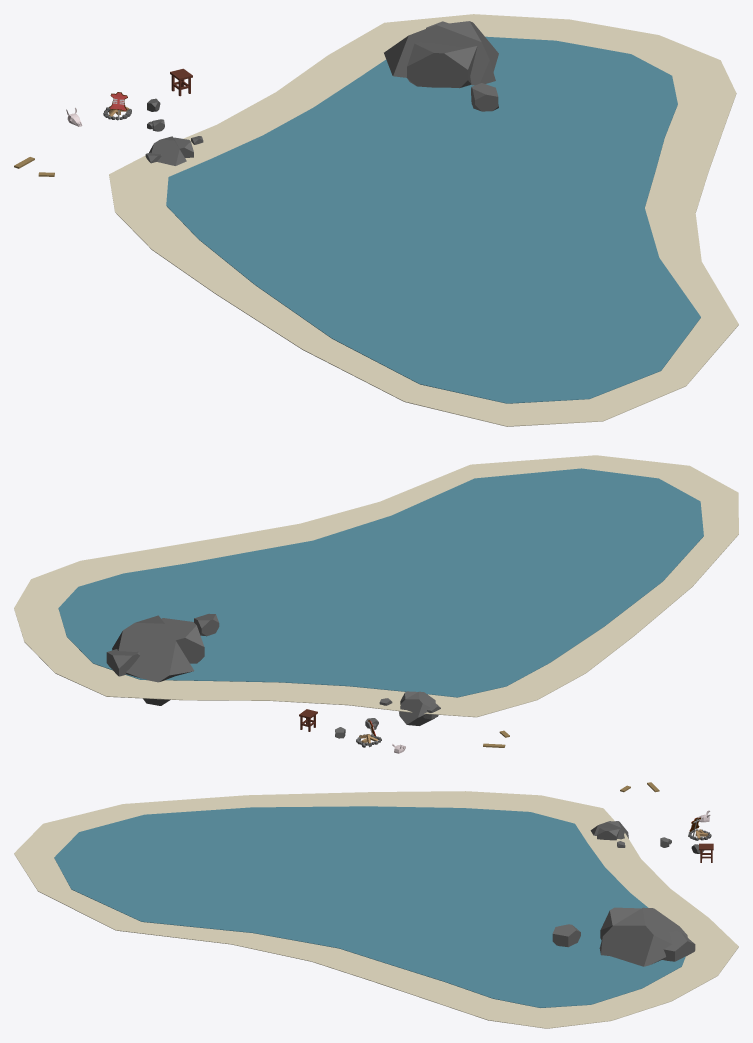
Rendered from shack.glb.
3 renders of one model, top to bottom at view 1: azimuth 30°, elevation 25°; view 2: azimuth 150°, elevation 25°; view 3: azimuth 270°, elevation 25°, orthographic. The views are drawn at different scales.
Parts seen in each view (by area): view 1: lagoon, shore, Cube.008; view 2: lagoon, shore, Cube.008; view 3: lagoon, shore, Cube.008.
Boxes of the visible parts, box(x1,y1,x2,y2) form: lagoon: box(166, 36, 700, 403); shore: box(109, 14, 738, 426); Cube.008: box(145, 21, 498, 165); lagoon: box(58, 468, 703, 697); shore: box(14, 455, 738, 717); Cube.008: box(106, 613, 440, 725); lagoon: box(54, 806, 685, 1007); shore: box(14, 791, 738, 1028); Cube.008: box(552, 821, 695, 966).
Size of the model in its own units: 41.8 by 6.23 by 52.34.
